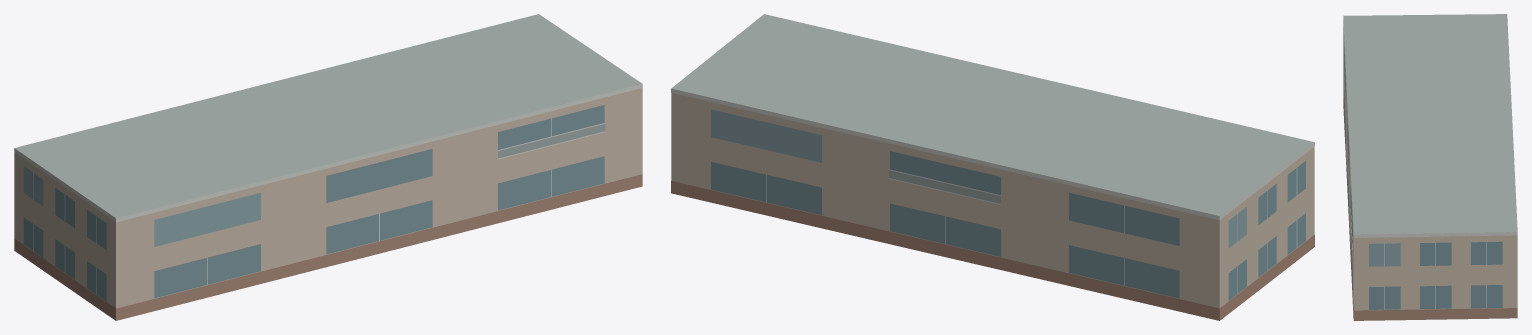
The model's file is survey-upis-32625854.glb.
3 views of the same model, side by side, from view 1: azimuth 30°, elevation 25°; view 2: azimuth 150°, elevation 25°; view 3: azimuth 270°, elevation 25° (orthographic). The views are drawn at different scales.
Parts seen in each view (by area): view 1: survey-upis-32625854.tmp; view 2: survey-upis-32625854.tmp; view 3: survey-upis-32625854.tmp.
Part boxes in pixels (x1,y1,x2,y2): survey-upis-32625854.tmp: (14,14,642,320); survey-upis-32625854.tmp: (671,14,1314,320); survey-upis-32625854.tmp: (1343,14,1517,320).
Size of the model in its own units: 33.43 by 6.1 by 11.18.
